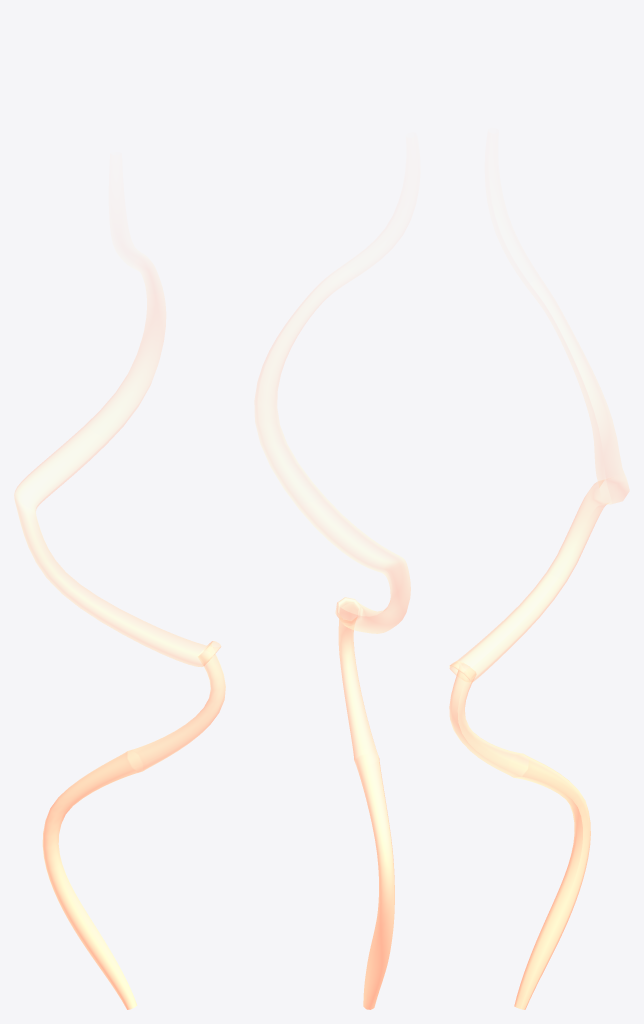
The model's file is strand_e_danger.glb.
The picture shows the model from 3 angles, left to right: view 1: azimuth 30°, elevation 25°; view 2: azimuth 150°, elevation 25°; view 3: azimuth 270°, elevation 25°; orthographic projection.
Bounding box in the file's own units: 1.39 × 9.03 × 1.49.
